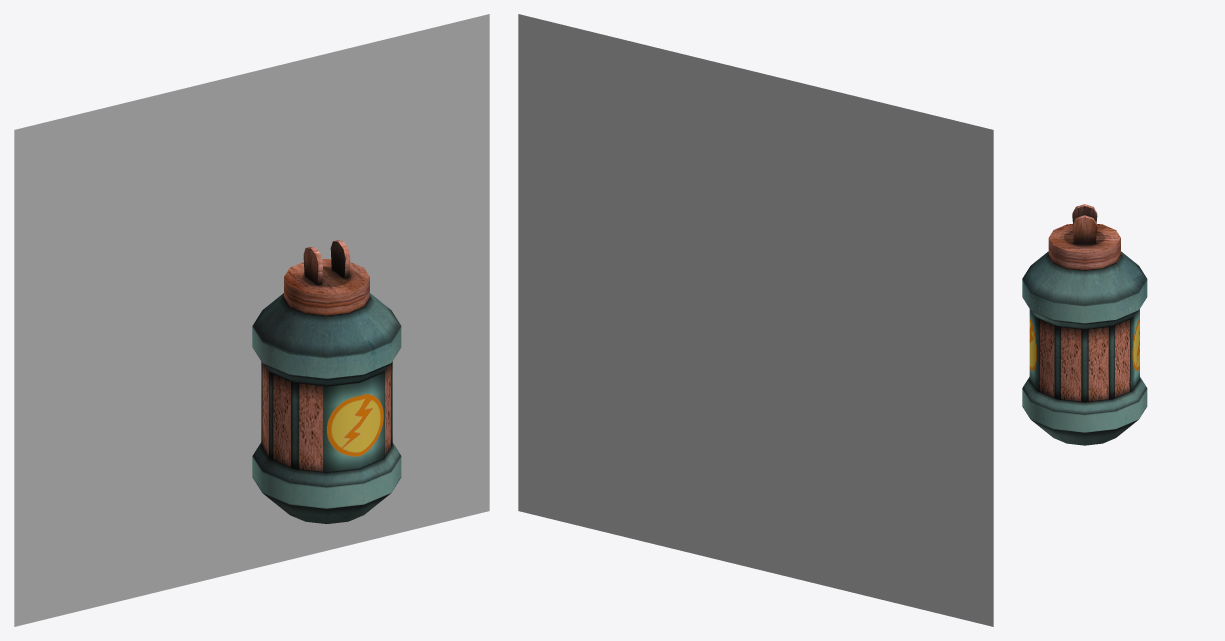
Rendered from fuelCell.fbx.
The picture shows the model from 3 angles, left to right: view 1: azimuth 30°, elevation 25°; view 2: azimuth 150°, elevation 25°; view 3: azimuth 270°, elevation 25°; orthographic projection. The views are drawn at different scales.
Visible parts, largest first — view 1: glowPlane, fullCellMesh; view 2: glowPlane; view 3: fullCellMesh.
Boxes of the visible parts, x1,y1,x2,y2 form: glowPlane: (14, 14, 489, 626); fullCellMesh: (252, 240, 401, 523); glowPlane: (518, 14, 993, 626); fullCellMesh: (1022, 204, 1147, 445).
Size of the model in its own units: 1.81 by 1.81 by 0.7388.
